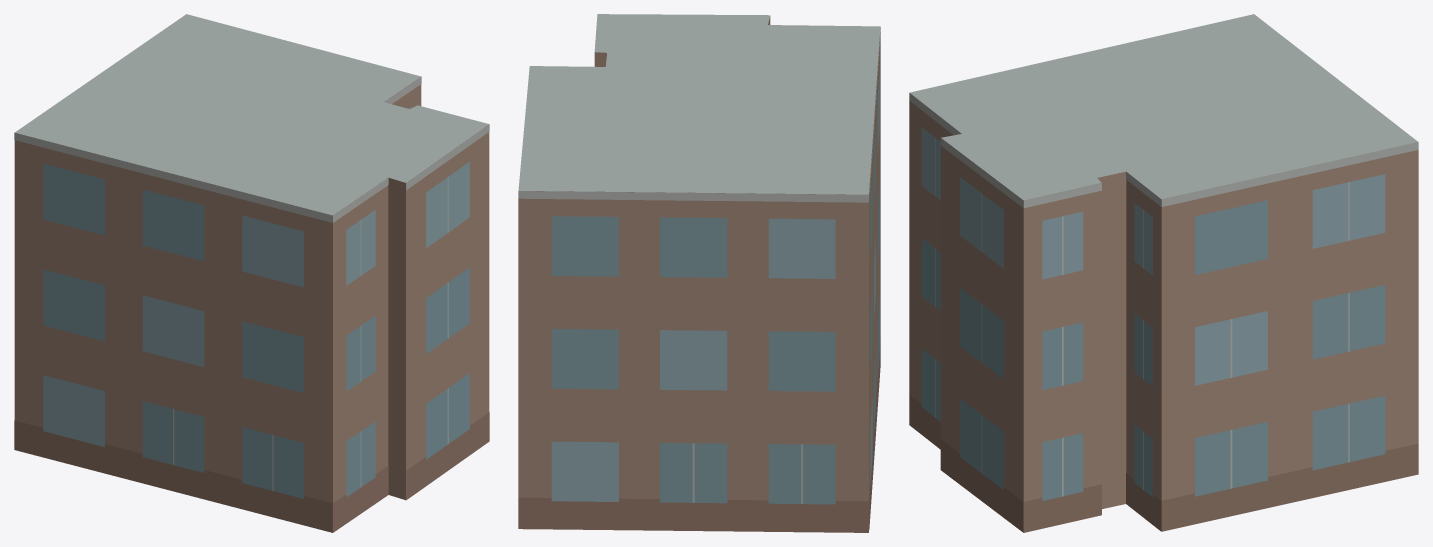
Rendered from survey-upis-32685615.glb.
The picture shows the model from 3 angles, left to right: view 1: azimuth 30°, elevation 25°; view 2: azimuth 150°, elevation 25°; view 3: azimuth 270°, elevation 25°; orthographic projection. The views are drawn at different scales.
Visible parts, largest first — view 1: survey-upis-32685615.tmp; view 2: survey-upis-32685615.tmp; view 3: survey-upis-32685615.tmp.
Part boxes in pixels (left/top/right/bottom): survey-upis-32685615.tmp: left=14, top=14, right=489, bottom=532; survey-upis-32685615.tmp: left=518, top=14, right=880, bottom=532; survey-upis-32685615.tmp: left=909, top=14, right=1418, bottom=532.
Size of the model in its own units: 12.52 by 10.4 by 14.45.
